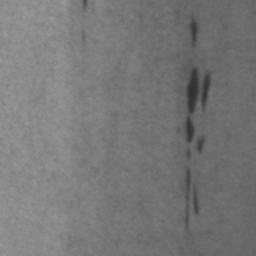Inclusion: (187, 68, 211, 113), (186, 118, 196, 143), (189, 19, 198, 45)
